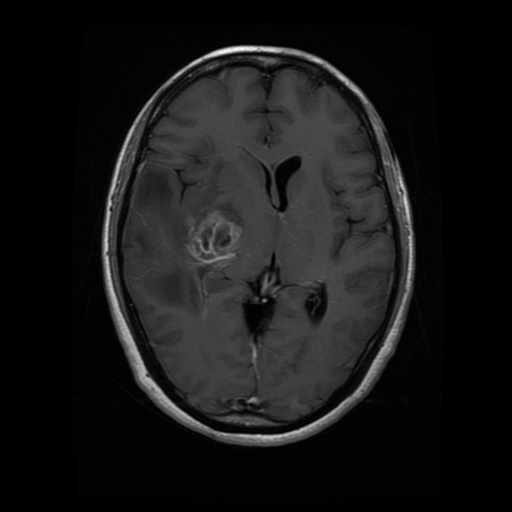glioma: (180, 204, 246, 264)
